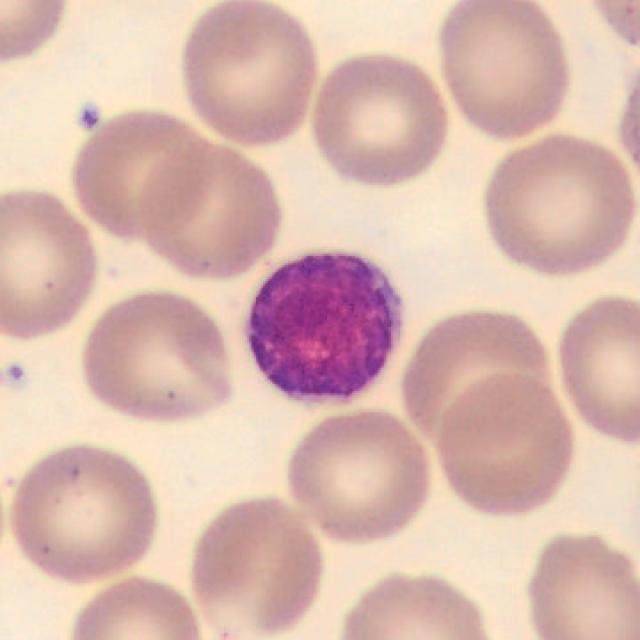Linfocito: (249, 254, 398, 396)
